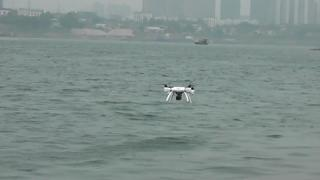UAV: (164, 84, 194, 104)
